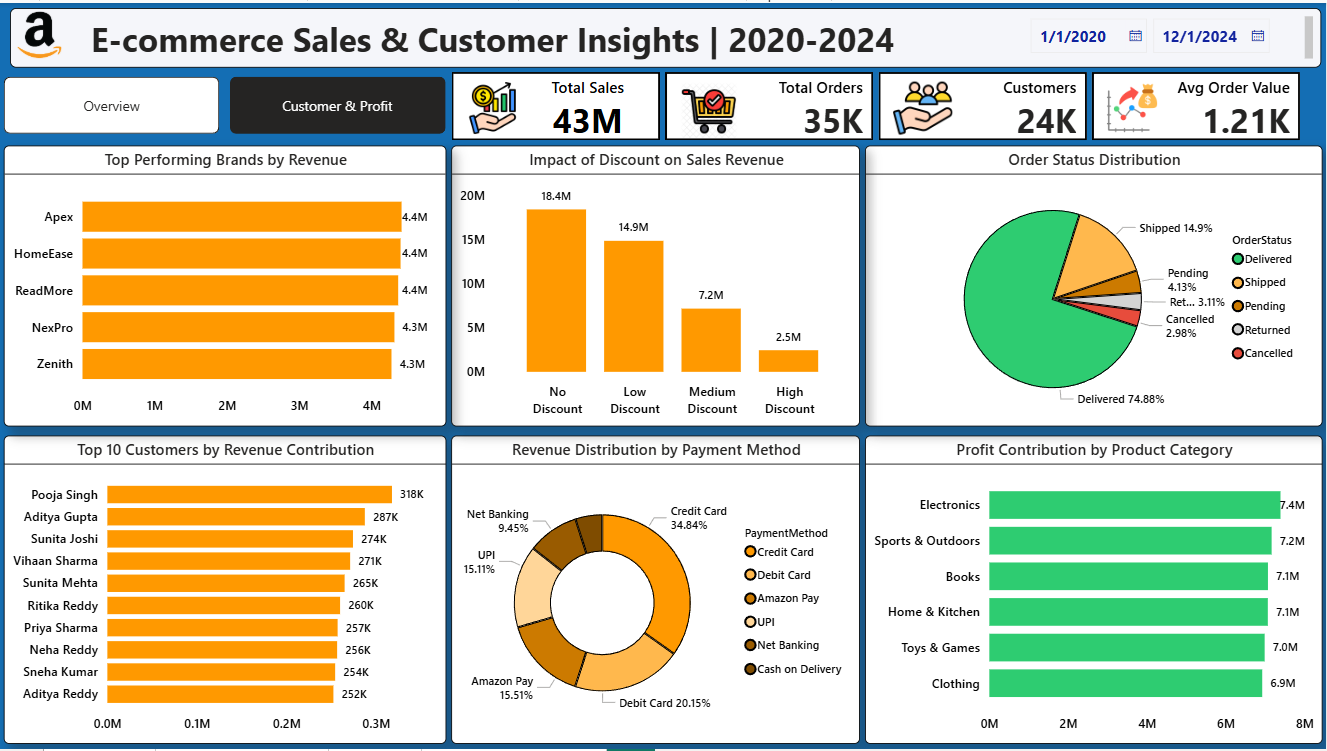

What the dashboard file says about the page in this screenshot:
{"tool":"powerbi","page":{"name":"Customer & Profit","canvas":[1280,720],"ordinal":1},"visuals":[{"type":"textbox","title":"Sales Performance Overview | 2020-2024","box":[9.7,4.8,1265.6,57.9],"z":0},{"type":"cardVisual","title":"Total Sales","fields":{"Data":["amazon amazon.Total Sales","amazon amazon.Total Orders","amazon amazon.Total Customers","amazon amazon.AOV"]},"box":[413.8,43.4,866.2,114.6],"z":1000},{"type":"image","box":[0,0,76,62.7],"z":8000},{"type":"slicer","title":"Select Date Range","fields":{"Values":["amazon amazon.OrderDate"]},"box":[982,4.8,277.5,57.9],"z":9000},{"type":"barChart","title":"Top 10 Customers by Revenue Contribution","fields":{"Category":["amazon amazon.CustomerName"],"Y":["amazon amazon.Total Sales"]},"box":[3.6,417.4,427.1,298],"z":9001},{"type":"donutChart","title":"Revenue Distribution by Payment Method","fields":{"Category":["amazon amazon.PaymentMethod"],"Y":["amazon amazon.Total Sales"]},"box":[435.5,417.4,394.5,298],"z":9002},{"type":"barChart","title":"Profit Contribution by Product Category","fields":{"Category":["amazon amazon.Category"],"Y":["amazon amazon.Profit"]},"box":[834.9,417.4,441.6,298],"z":9003},{"type":"pieChart","title":"Order Status Distribution","fields":{"Category":["amazon amazon.OrderStatus"],"Y":["CountNonNull(amazon amazon.OrderID)"]},"box":[834.9,137.5,441.6,271.4],"z":9004},{"type":"columnChart","title":"Impact of Discount on Sales Revenue","fields":{"Category":["amazon amazon.Discount Category"],"Y":["amazon amazon.Total Sales"]},"box":[435.5,137.5,394.5,271.4],"z":9005},{"type":"clusteredBarChart","title":"Top Performing Brands by Revenue","fields":{"Category":["amazon amazon.Brand"],"Y":["amazon amazon.Total Sales"]},"box":[3.6,137.5,427.1,271.4],"z":9006},{"type":"pageNavigator","box":[3.6,71.2,427.1,55.5],"z":9007}]}

Visuals, with their boxes in screenshot pixels (x1, y1, x2, y2), scaled from the page's 1280x720 canvas onto the 1327x751 screenshot:
"Sales Performance Overview | 2020-2024" textbox: locate(10, 5, 1322, 65)
"Total Sales" cardVisual: locate(429, 45, 1326, 165)
image: locate(0, 0, 79, 65)
"Select Date Range" slicer: locate(1018, 5, 1306, 65)
"Top 10 Customers by Revenue Contribution" barChart: locate(4, 435, 447, 746)
"Revenue Distribution by Payment Method" donutChart: locate(451, 435, 860, 746)
"Profit Contribution by Product Category" barChart: locate(866, 435, 1323, 746)
"Order Status Distribution" pieChart: locate(866, 143, 1323, 427)
"Impact of Discount on Sales Revenue" columnChart: locate(451, 143, 860, 427)
"Top Performing Brands by Revenue" clusteredBarChart: locate(4, 143, 447, 427)
pageNavigator: locate(4, 74, 447, 132)
